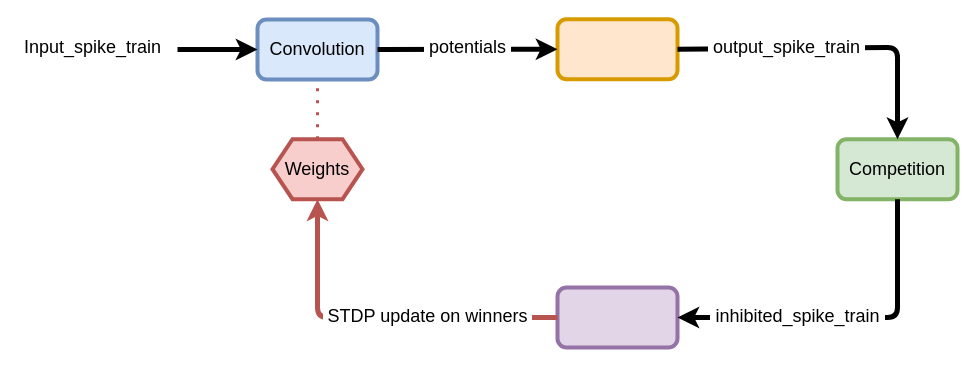
Some shapes in this 976 by 367 pixel diagram are drawn without their labels. Here are the shapes that lost their labels. From the top down, the box of each, then its label:
(555, 17, 679, 81): Firing
(555, 285, 679, 349): Get winners
